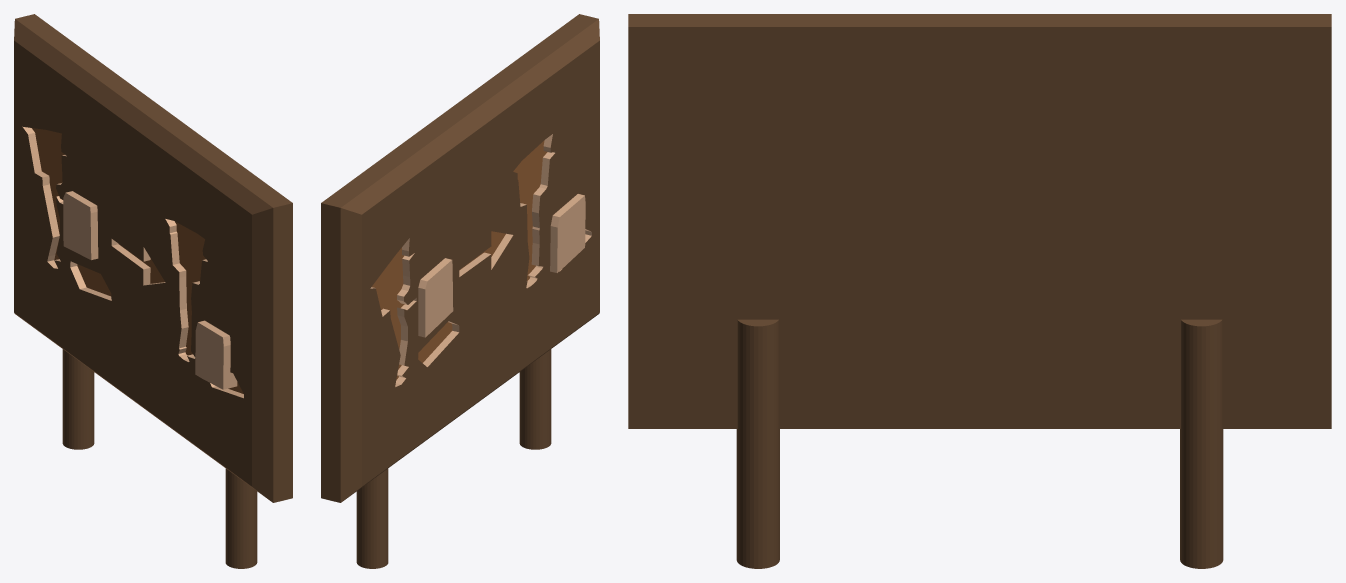
The model's file is ButtonSign.fbx.
3 views of the same model, side by side, from view 1: azimuth 30°, elevation 25°; view 2: azimuth 150°, elevation 25°; view 3: azimuth 270°, elevation 25° (orthographic). The views are drawn at different scales.
Visible parts, largest first — view 1: Cube.005, Cylinder, Cylinder.001; view 2: Cube.005, Cylinder.001, Cylinder; view 3: Cube.005, Cylinder, Cylinder.001.
Boxes of the visible parts, <box> form: Cube.005: <box>14,14,292,502</box>; Cylinder: <box>62,349,94,449</box>; Cylinder.001: <box>225,468,257,568</box>; Cube.005: <box>321,14,599,502</box>; Cylinder.001: <box>519,349,551,449</box>; Cylinder: <box>356,468,388,568</box>; Cube.005: <box>628,14,1331,428</box>; Cylinder: <box>1180,319,1223,568</box>; Cylinder.001: <box>736,319,779,568</box>.
Bounding box in the file's own units: 33.84 × 266 × 317.
